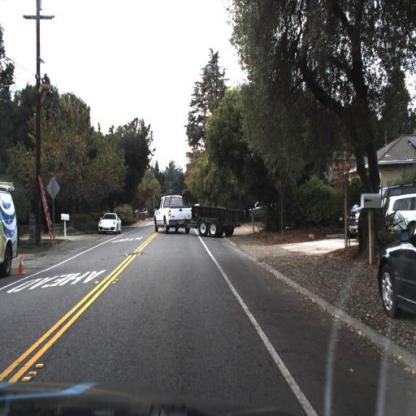car: (152, 195, 247, 239), (377, 216, 416, 323), (2, 183, 20, 279), (99, 213, 123, 237), (250, 200, 271, 225)
pedestrian: (38, 74, 53, 105)
